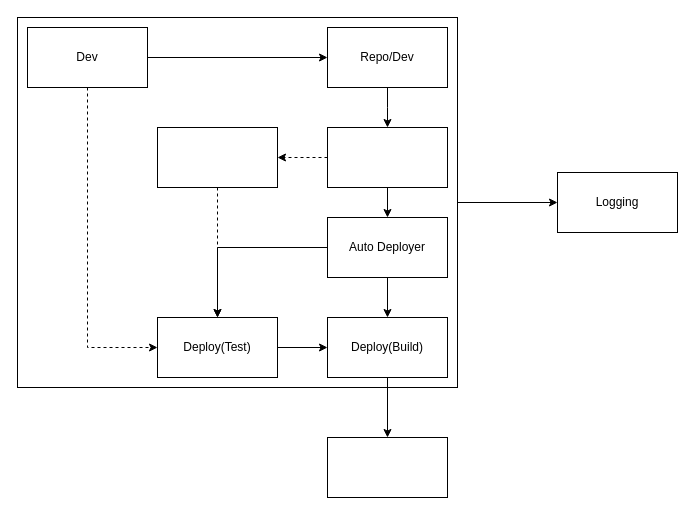
Image size: 695x515. Some labels were removed from this diagram. Each missing label, with the box of its shape:
CI/CD Github Action: (326, 126, 448, 188)
Main: (326, 436, 448, 498)
SRE: (156, 126, 278, 188)
